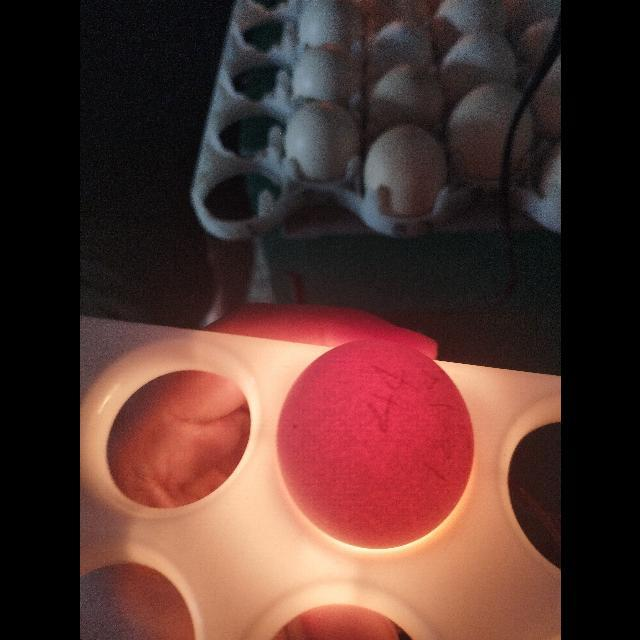Infertile: (274, 336, 481, 554)
